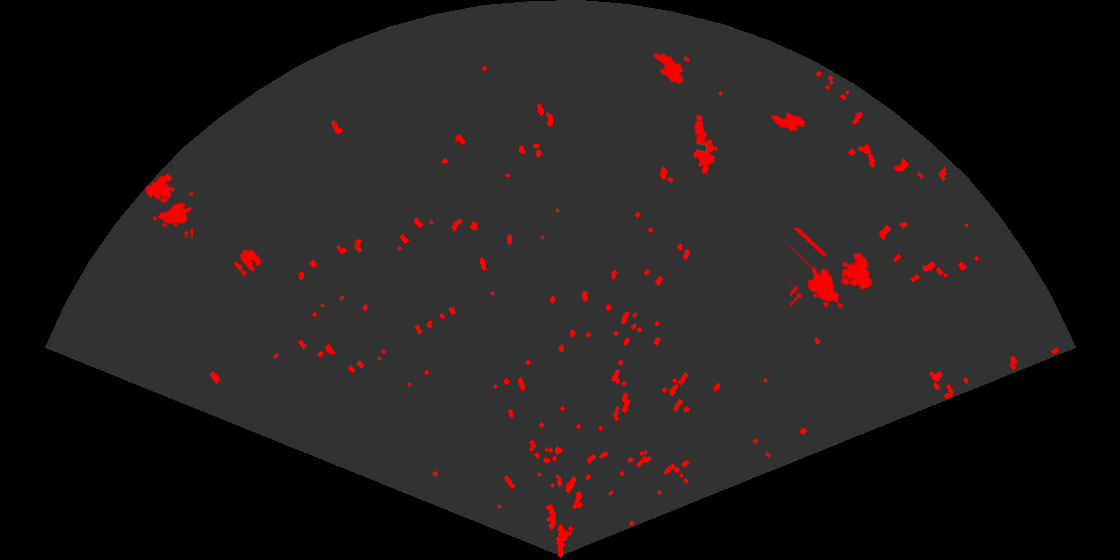AUV: (652, 51, 686, 86), (769, 111, 807, 133)
ball: (232, 248, 263, 278)
cage: (790, 228, 874, 310), (143, 171, 193, 238)
frogman: (692, 112, 720, 173)
